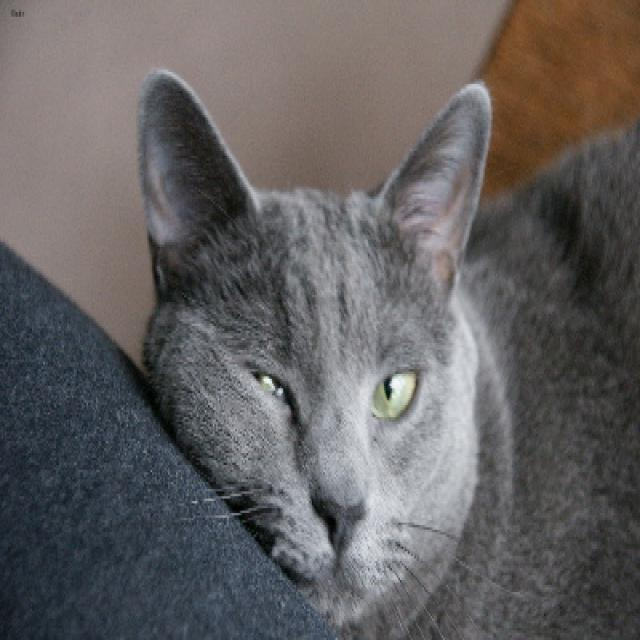Russian_Blue: (136, 65, 488, 616)
